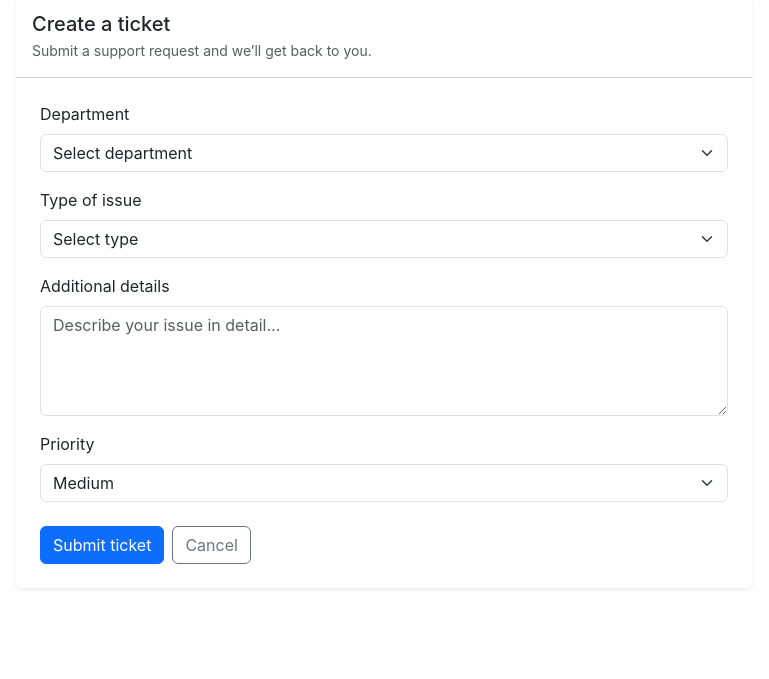
Test case: CreateTicketPage › shows API error message on failure
Select "Engineering" in the dropdown labelled "Department" at (384, 153), box [40,134,728,172]
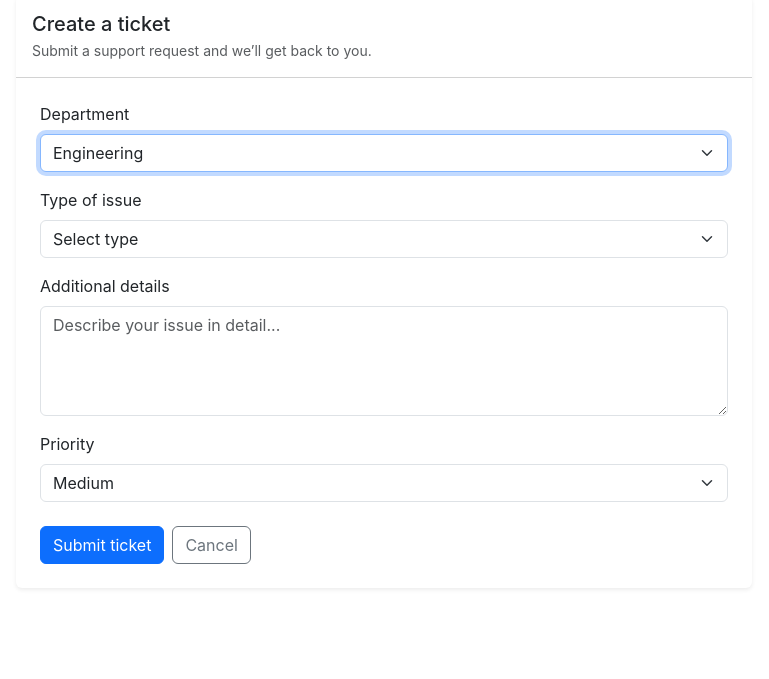
Select "Access" in the dropdown labelled "Type of issue" at (384, 239), box [40,220,728,258]
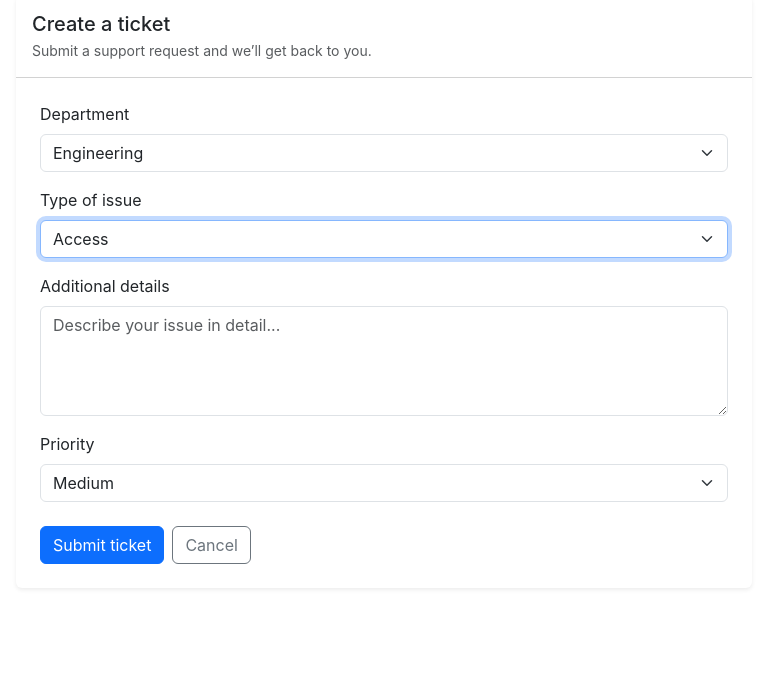
Type "Details here" into the text box labelled "Additional details" at (384, 361), box [40,306,728,416]
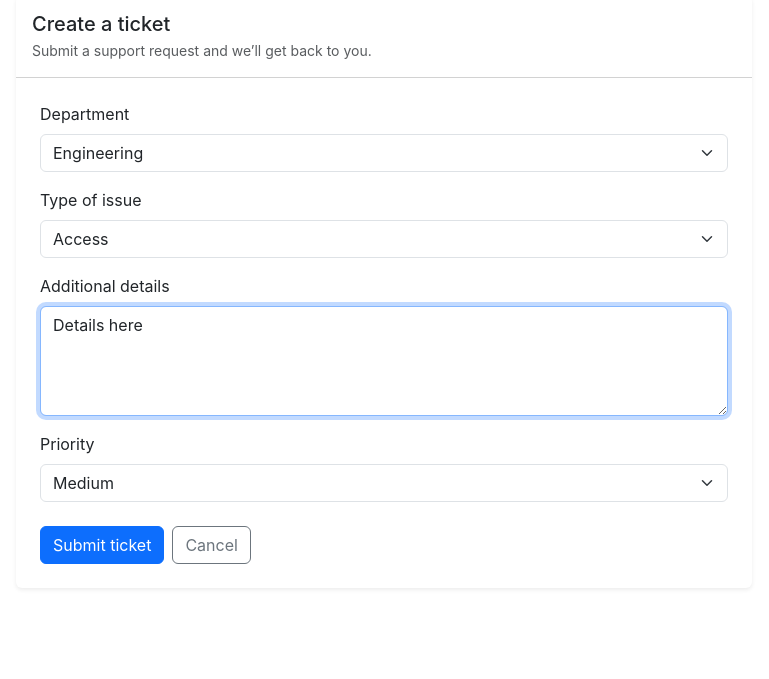
Click the button "Submit ticket" at (102, 545), box [40,526,164,564]
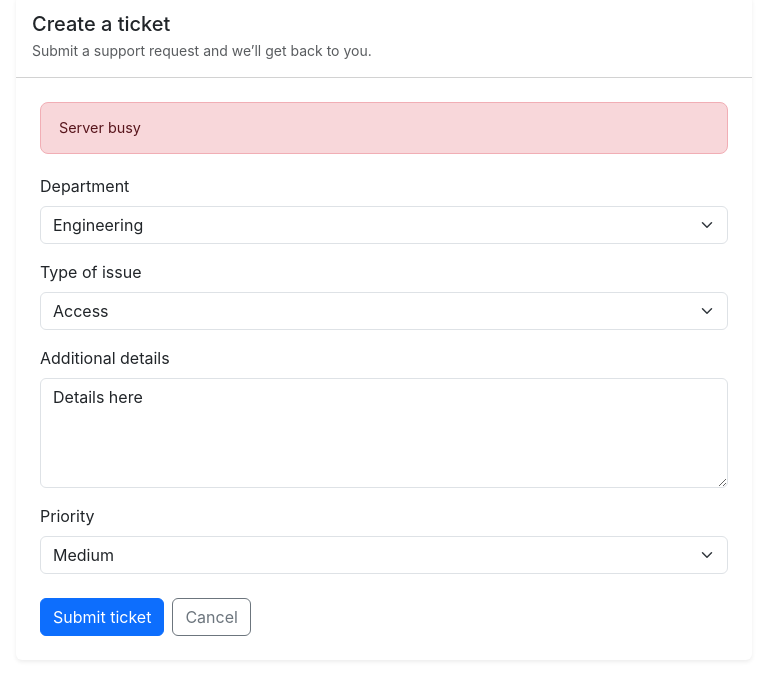
Check: the text "Server busy" is shown, box [40,102,728,154]
